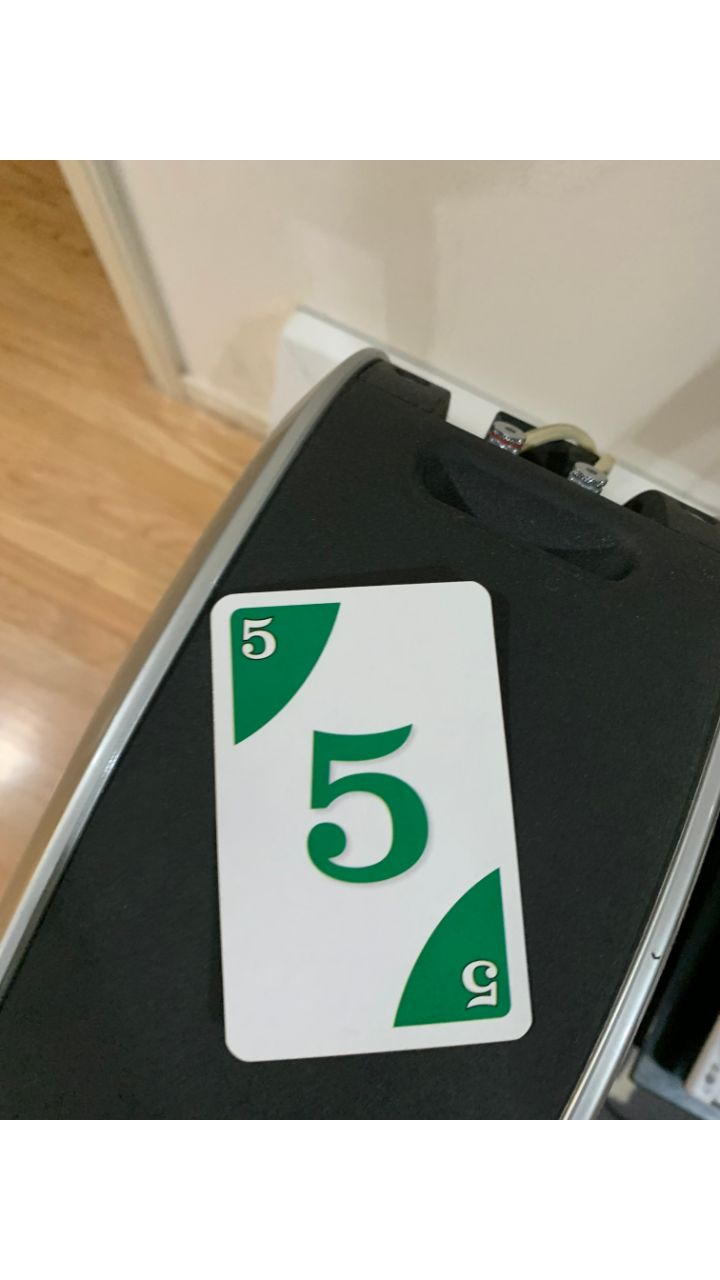five: (202, 574, 545, 1071)
